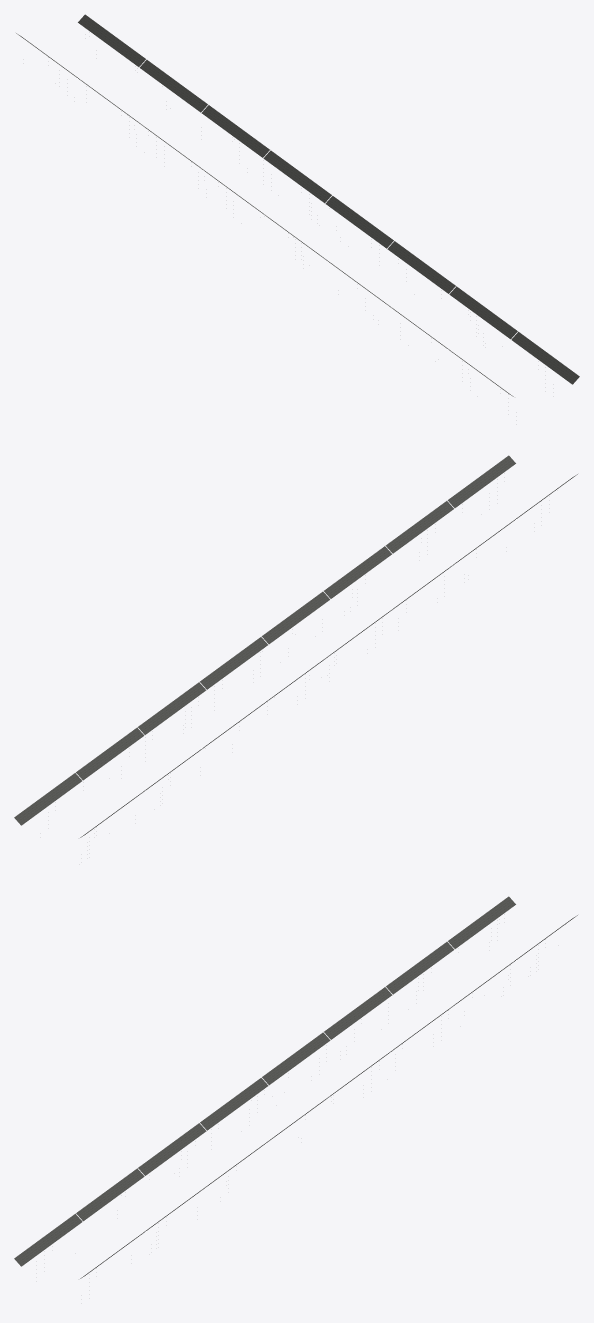
Rendered from vgsetrainfence09.obj.
The picture shows the model from 3 angles, top to bottom: view 1: azimuth 30°, elevation 25°; view 2: azimuth 150°, elevation 25°; view 3: azimuth 330°, elevation 25°; orthographic projection.
Visible parts, largest first — view 1: vgsEtrainfence09; view 2: vgsEtrainfence09; view 3: vgsEtrainfence09.
Part boxes in pixels (x1=…): vgsEtrainfence09: x1=16, y1=14, x2=579, y2=396; vgsEtrainfence09: x1=14, y1=455, x2=577, y2=837; vgsEtrainfence09: x1=14, y1=896, x2=577, y2=1278.
Size of the model in its own units: 13.25 by 6.15 by 160.
2 materials, 2 textured.
